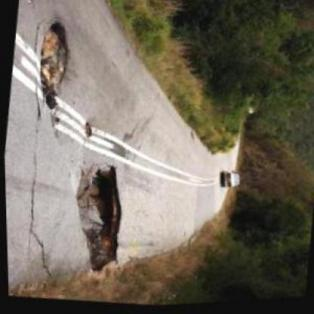Hueco: (63, 160, 132, 279), (29, 16, 76, 113), (81, 121, 94, 142)
